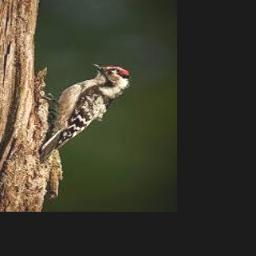Woodpecker: (41, 63, 132, 162)
